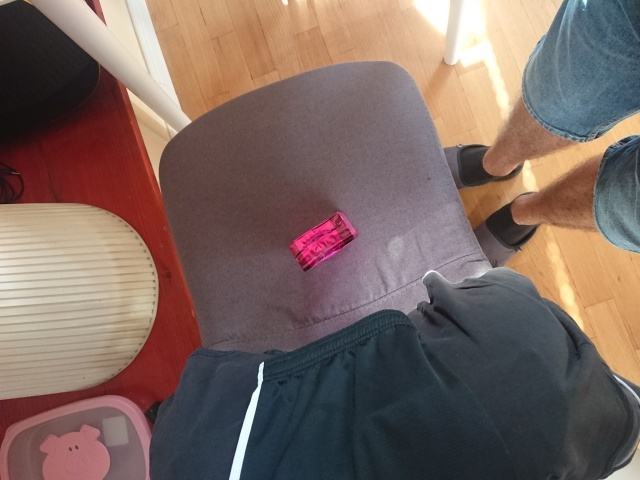Barcaffe Classic Original 225g: (286, 209, 360, 274)
